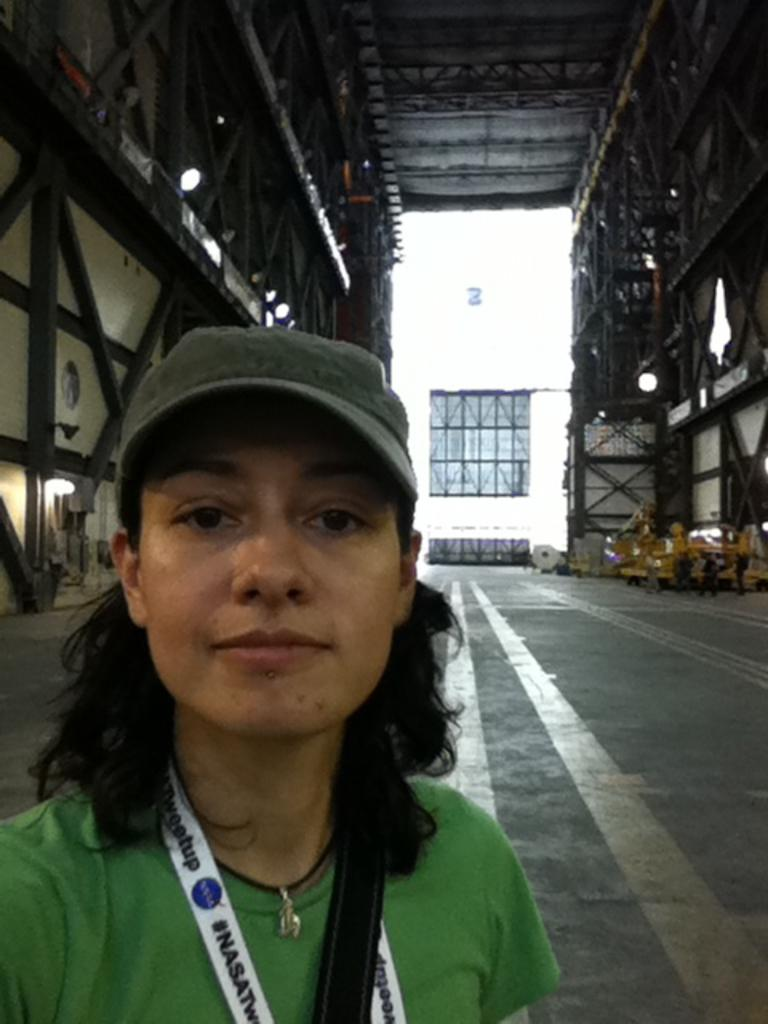Hat: (114, 323, 416, 489)
